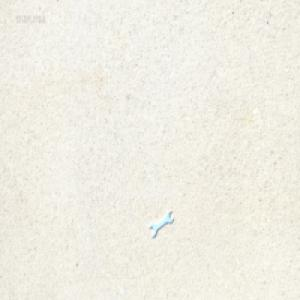Wrench: (150, 210, 175, 238)
